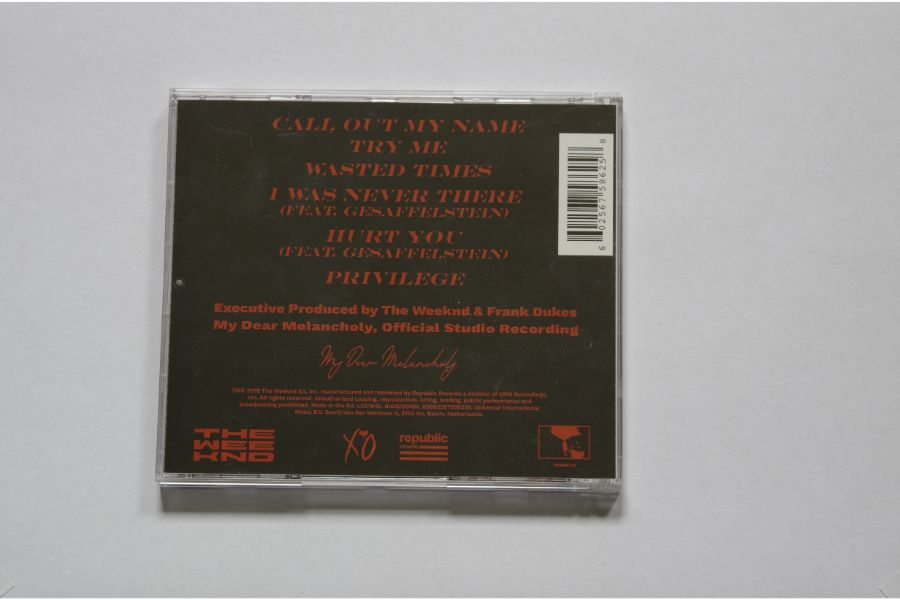album: (157, 84, 624, 491)
